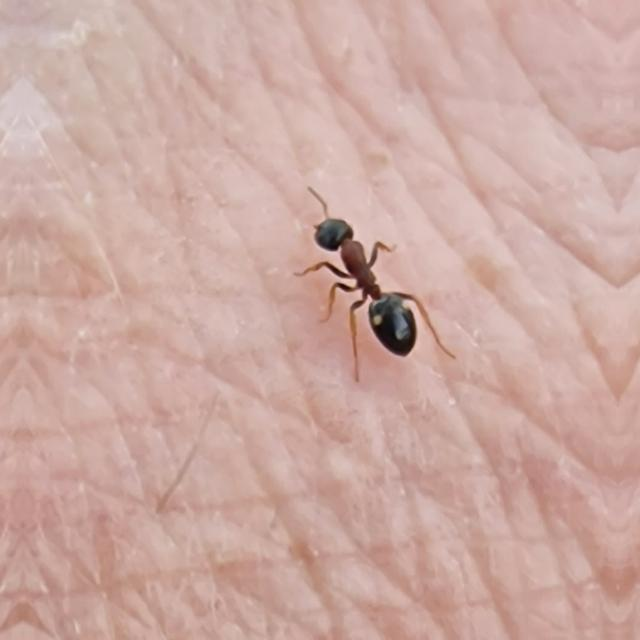Dolichoderus: (284, 182, 448, 372)
